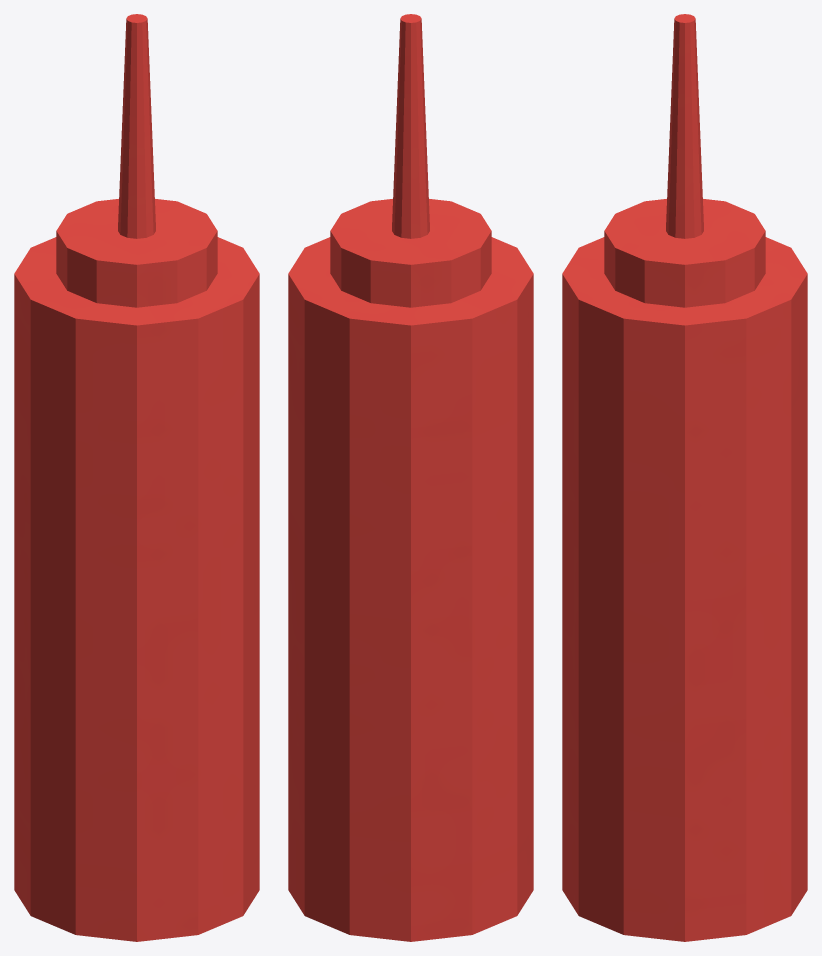
The model's file is Sauce_Bottle_01.fbx.
3 renders of one model, left to right at view 1: azimuth 30°, elevation 25°; view 2: azimuth 150°, elevation 25°; view 3: azimuth 270°, elevation 25°, orthographic.
Parts seen in each view (by area): view 1: Sauce_Bottle_01; view 2: Sauce_Bottle_01; view 3: Sauce_Bottle_01.
Part boxes in pixels (bbox=[...]): Sauce_Bottle_01: bbox=[14, 14, 259, 941]; Sauce_Bottle_01: bbox=[288, 14, 533, 941]; Sauce_Bottle_01: bbox=[562, 14, 807, 941].
Bounding box in the file's own units: 0.0627 × 0.2456 × 0.0627.
